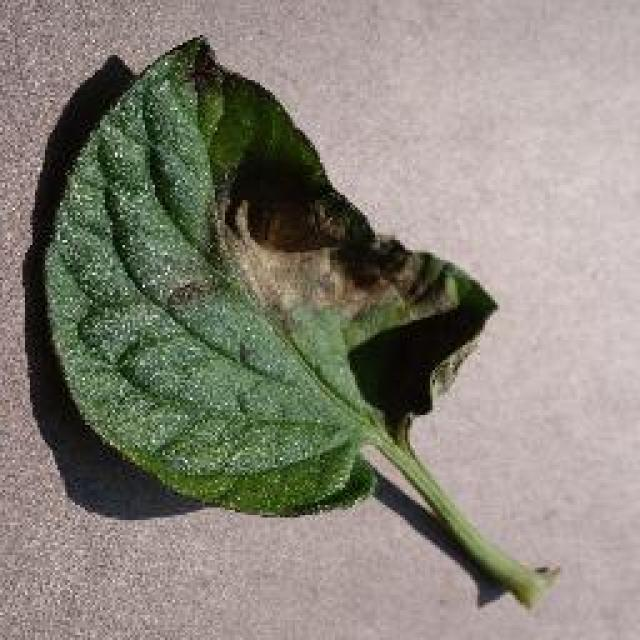Tomato___Late_blight: (43, 28, 559, 614)
